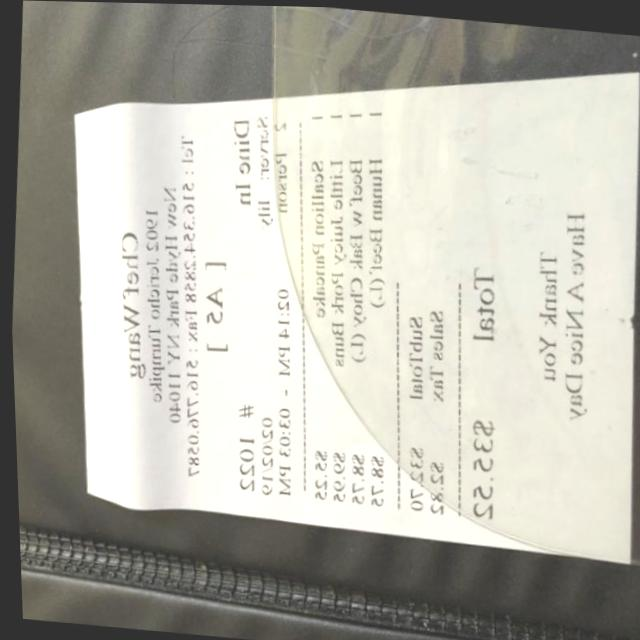Paper: (37, 15, 640, 564)
